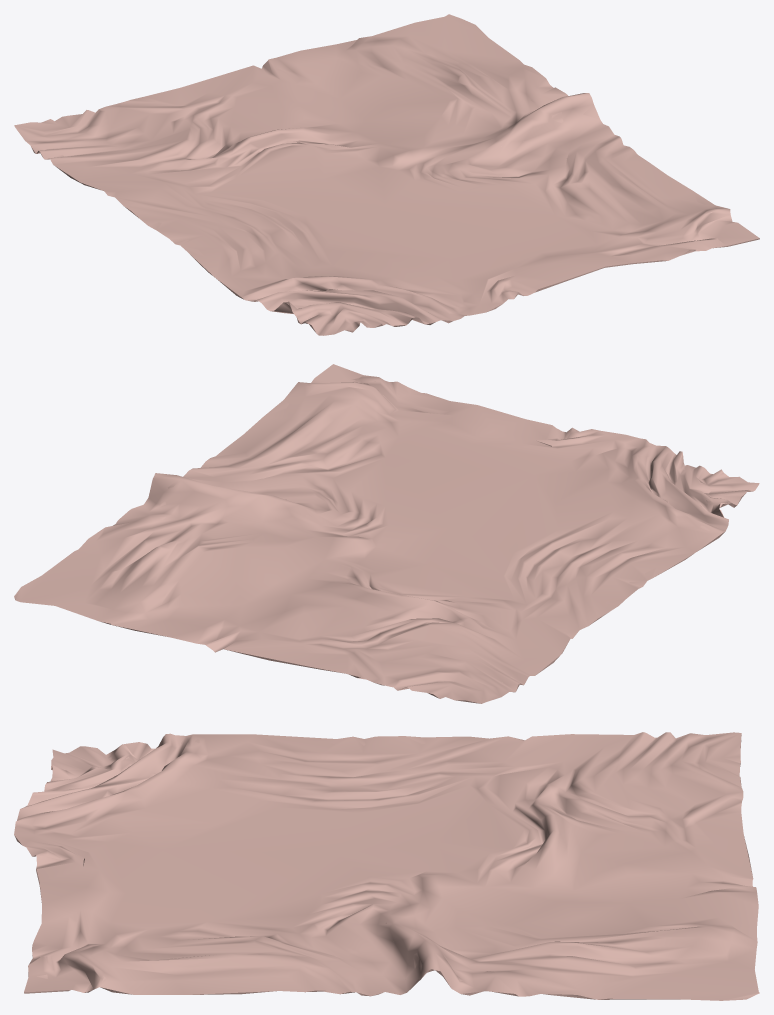
File: SM_Cloth_Various_DetailLevels_Cloth_Medium.FBX
The picture shows the model from 3 angles, top to bottom: view 1: azimuth 30°, elevation 25°; view 2: azimuth 150°, elevation 25°; view 3: azimuth 270°, elevation 25°; orthographic projection. The views are drawn at different scales.
Parts seen in each view (by area): view 1: SM_Cloth_Various_DetailLevels_Cloth_Medium; view 2: SM_Cloth_Various_DetailLevels_Cloth_Medium; view 3: SM_Cloth_Various_DetailLevels_Cloth_Medium.
Boxes of the visible parts, bbox=[...] form: SM_Cloth_Various_DetailLevels_Cloth_Medium: bbox=[14, 14, 759, 335]; SM_Cloth_Various_DetailLevels_Cloth_Medium: bbox=[14, 364, 759, 703]; SM_Cloth_Various_DetailLevels_Cloth_Medium: bbox=[14, 732, 759, 1000].
Size of what is drawn, in the model's own units: 86.34 by 102 by 5.8.
